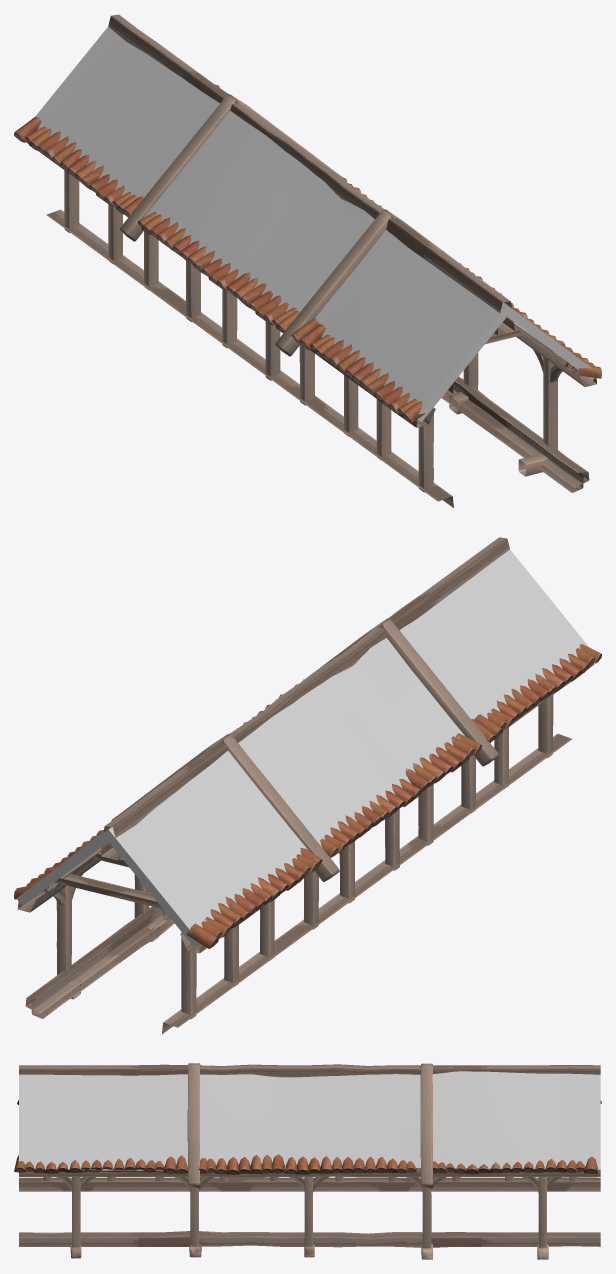
The model's file is SM_Wall_Roof.fbx.
The picture shows the model from 3 angles, top to bottom: view 1: azimuth 30°, elevation 25°; view 2: azimuth 150°, elevation 25°; view 3: azimuth 270°, elevation 25°; orthographic projection. The views are drawn at different scales.
Visible parts, largest first — view 1: SM_Wall_Roof_LOD0; view 2: SM_Wall_Roof_LOD0; view 3: SM_Wall_Roof_LOD0.
Boxes of the visible parts, x1,y1,x2,y2 form: SM_Wall_Roof_LOD0: [14, 14, 601, 507]; SM_Wall_Roof_LOD0: [14, 537, 601, 1034]; SM_Wall_Roof_LOD0: [14, 1063, 601, 1259].
Size of what is drawn, in the model's own units: 6.56 by 6.16 by 20.23.
